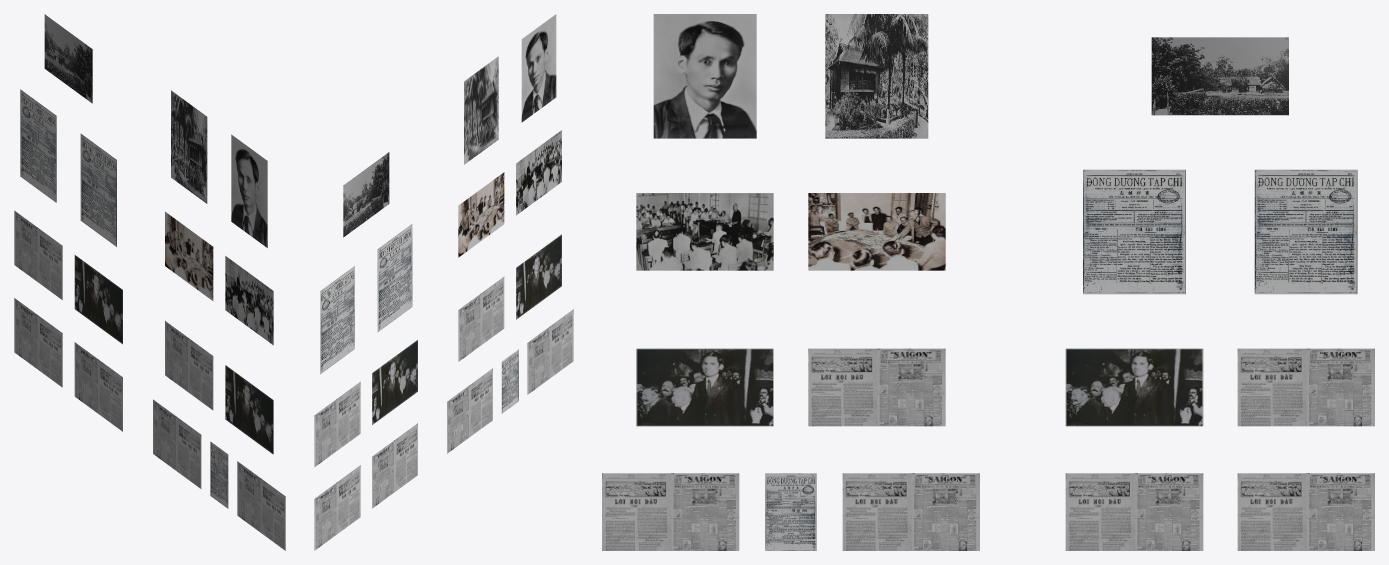
Rendered from PhongThuHai_AB.glb.
3 views of the same model, side by side, from view 1: azimuth 30°, elevation 25°; view 2: azimuth 150°, elevation 25°; view 3: azimuth 270°, elevation 25° (orthographic). The views are drawn at different scales.
Visible parts, largest first — view 1: Plane.016, Plane.005, Plane.004, Plane.013, Plane.007, Plane.006, Plane.011, Plane.003, Plane.002, Plane.001, Plane.020, Plane.019 (+4 smaller); view 2: Plane.005, Plane.004, Plane.016, Plane.013, Plane.019, Plane.008, Plane.007, Plane.003, Plane.002, Plane.006, Plane.020, Plane.018 (+4 smaller); view 3: Plane.016, Plane.013, Plane.005, Plane.004, Plane.009, Plane.003, Plane.001, Plane.002, Plane.008, Plane.011, Plane.020, Plane.019 (+4 smaller).
Part boxes in pixels (left/top/right/bottom): Plane.016: left=20, top=89, right=56, bottom=202; Plane.005: left=231, top=134, right=267, bottom=247; Plane.004: left=80, top=133, right=116, bottom=246; Plane.013: left=171, top=90, right=207, bottom=203; Plane.007: left=14, top=298, right=62, bottom=387; Plane.006: left=237, top=461, right=285, bottom=550; Plane.011: left=74, top=342, right=122, bottom=431; Plane.003: left=165, top=321, right=213, bottom=410; Plane.002: left=44, top=14, right=92, bottom=103; Plane.001: left=225, top=365, right=273, bottom=454; Plane.020: left=153, top=399, right=201, bottom=488; Plane.019: left=165, top=211, right=213, bottom=300; Plane.005: left=521, top=14, right=556, bottom=122; Plane.004: left=377, top=224, right=412, bottom=331; Plane.016: left=320, top=266, right=354, bottom=373; Plane.013: left=464, top=56, right=498, bottom=164; Plane.019: left=458, top=172, right=504, bottom=257; Plane.008: left=314, top=382, right=360, bottom=467; Plane.007: left=314, top=465, right=360, bottom=550; Plane.003: left=458, top=276, right=504, bottom=361; Plane.002: left=343, top=152, right=389, bottom=237; Plane.006: left=527, top=309, right=573, bottom=394; Plane.020: left=447, top=368, right=492, bottom=453; Plane.018: left=516, top=130, right=561, bottom=215; Plane.016: left=1254, top=169, right=1357, bottom=294; Plane.013: left=825, top=14, right=928, bottom=138; Plane.005: left=653, top=14, right=756, bottom=138; Plane.004: left=1083, top=169, right=1185, bottom=294; Plane.009: left=1065, top=348, right=1203, bottom=426; Plane.003: left=808, top=348, right=945, bottom=426; Plane.001: left=636, top=348, right=773, bottom=426; Plane.002: left=1151, top=37, right=1288, bottom=115; Plane.008: left=1237, top=348, right=1374, bottom=426; Plane.011: left=1065, top=473, right=1203, bottom=550; Plane.020: left=842, top=473, right=979, bottom=550; Plane.019: left=808, top=193, right=945, bottom=270.
Size of the model in its own units: 0 by 1.72 by 2.25.
16 materials, 16 textured.
